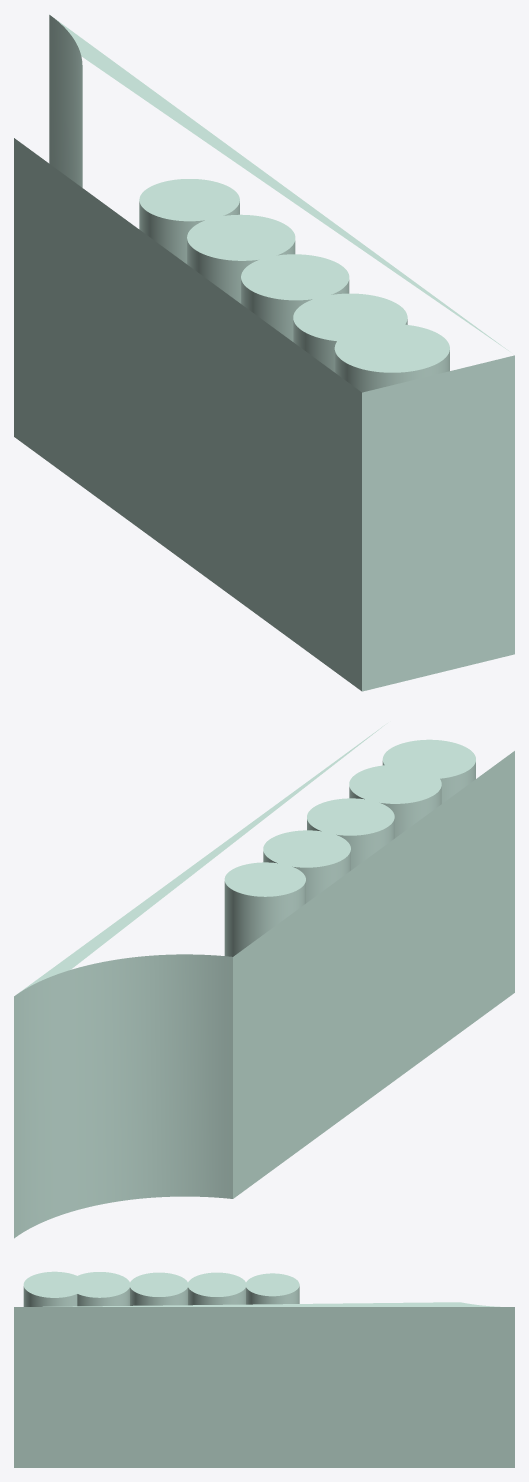
3 renders of one model, top to bottom at view 1: azimuth 30°, elevation 25°; view 2: azimuth 150°, elevation 25°; view 3: azimuth 270°, elevation 25°, orthographic. The views are drawn at different scales.
Visible parts, largest first — view 1: Renderer Node; view 2: Renderer Node; view 3: Renderer Node.
Boxes of the visible parts, bbox=[...] form: Renderer Node: bbox=[14, 14, 514, 691]; Renderer Node: bbox=[14, 723, 514, 1238]; Renderer Node: bbox=[14, 1271, 514, 1467].
Bounding box in the file's own units: 0.1421 × 0.2656 × 0.75.
